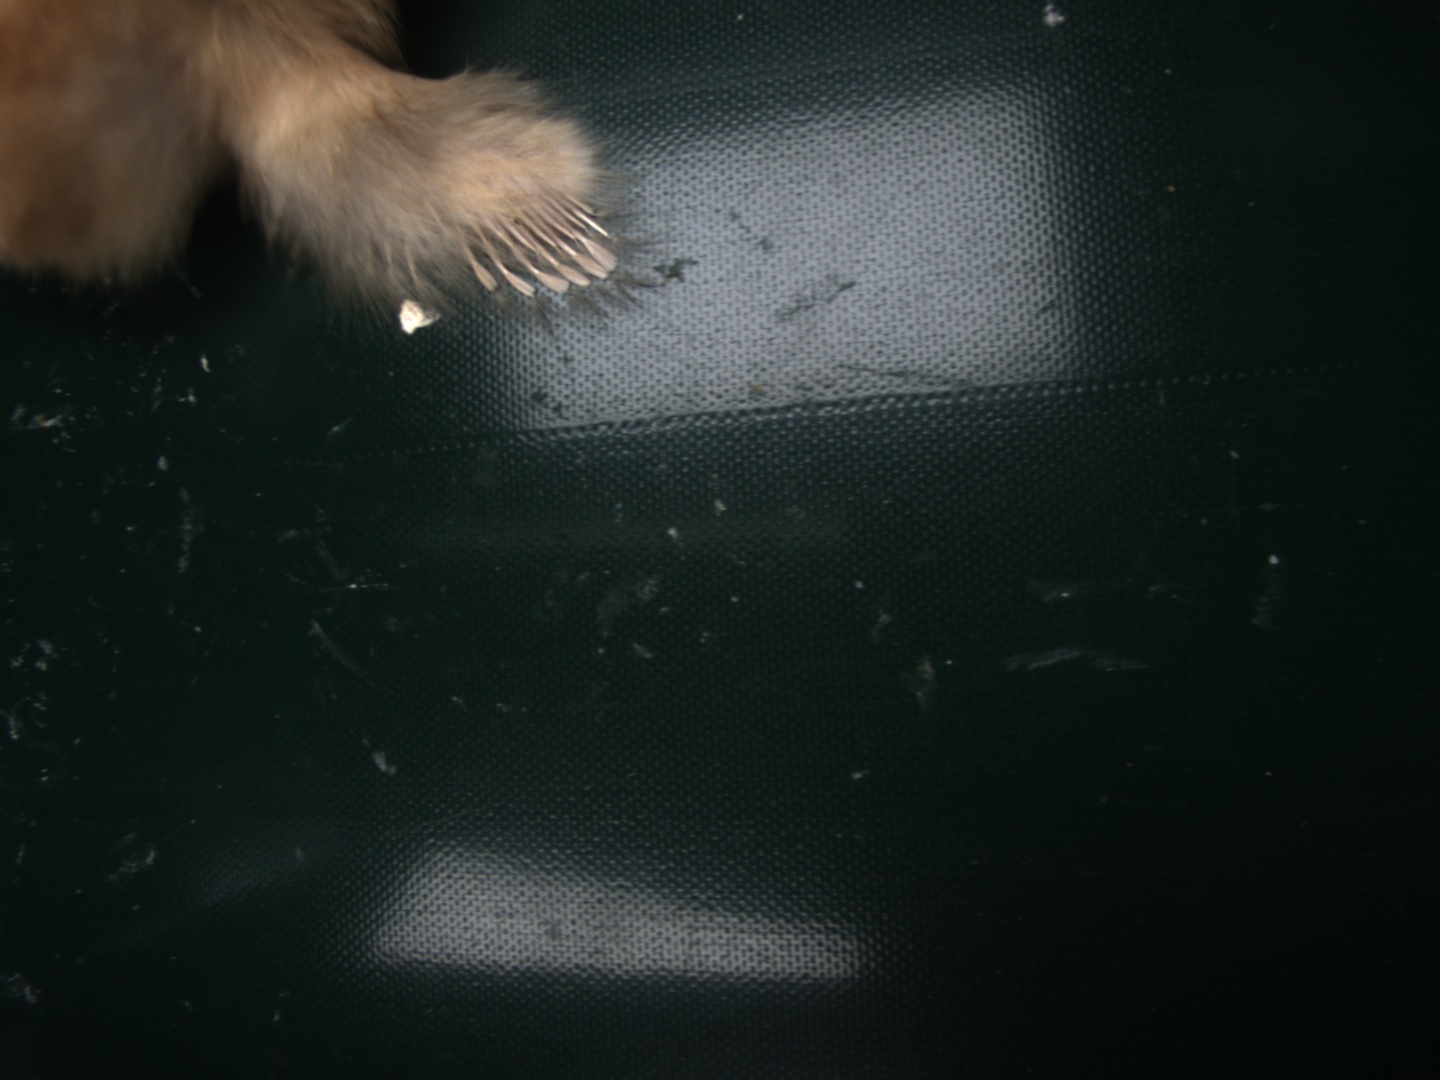female: (454, 183, 621, 293)
